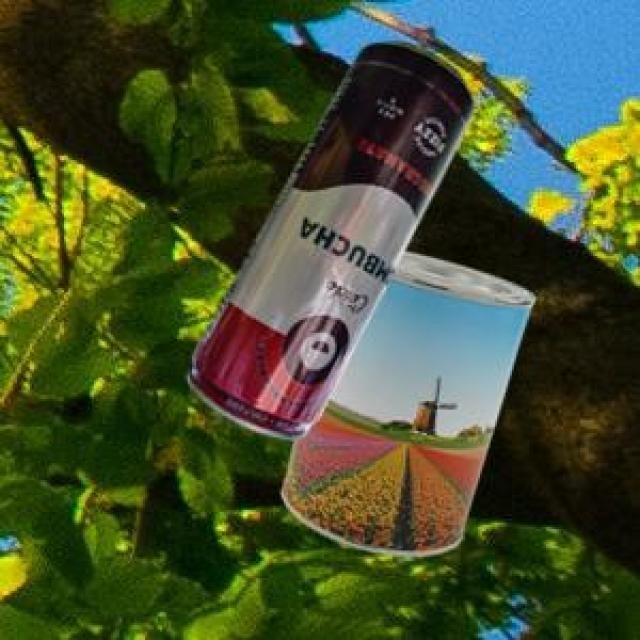Can: (185, 39, 470, 436), (278, 249, 532, 554)
